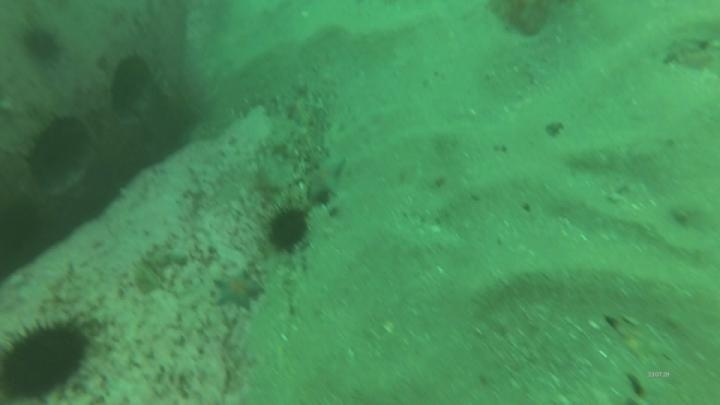echinus: (1, 314, 94, 403), (264, 203, 312, 254)
holothurian: (125, 241, 187, 297)
starfish: (301, 151, 350, 204), (211, 269, 266, 313)
